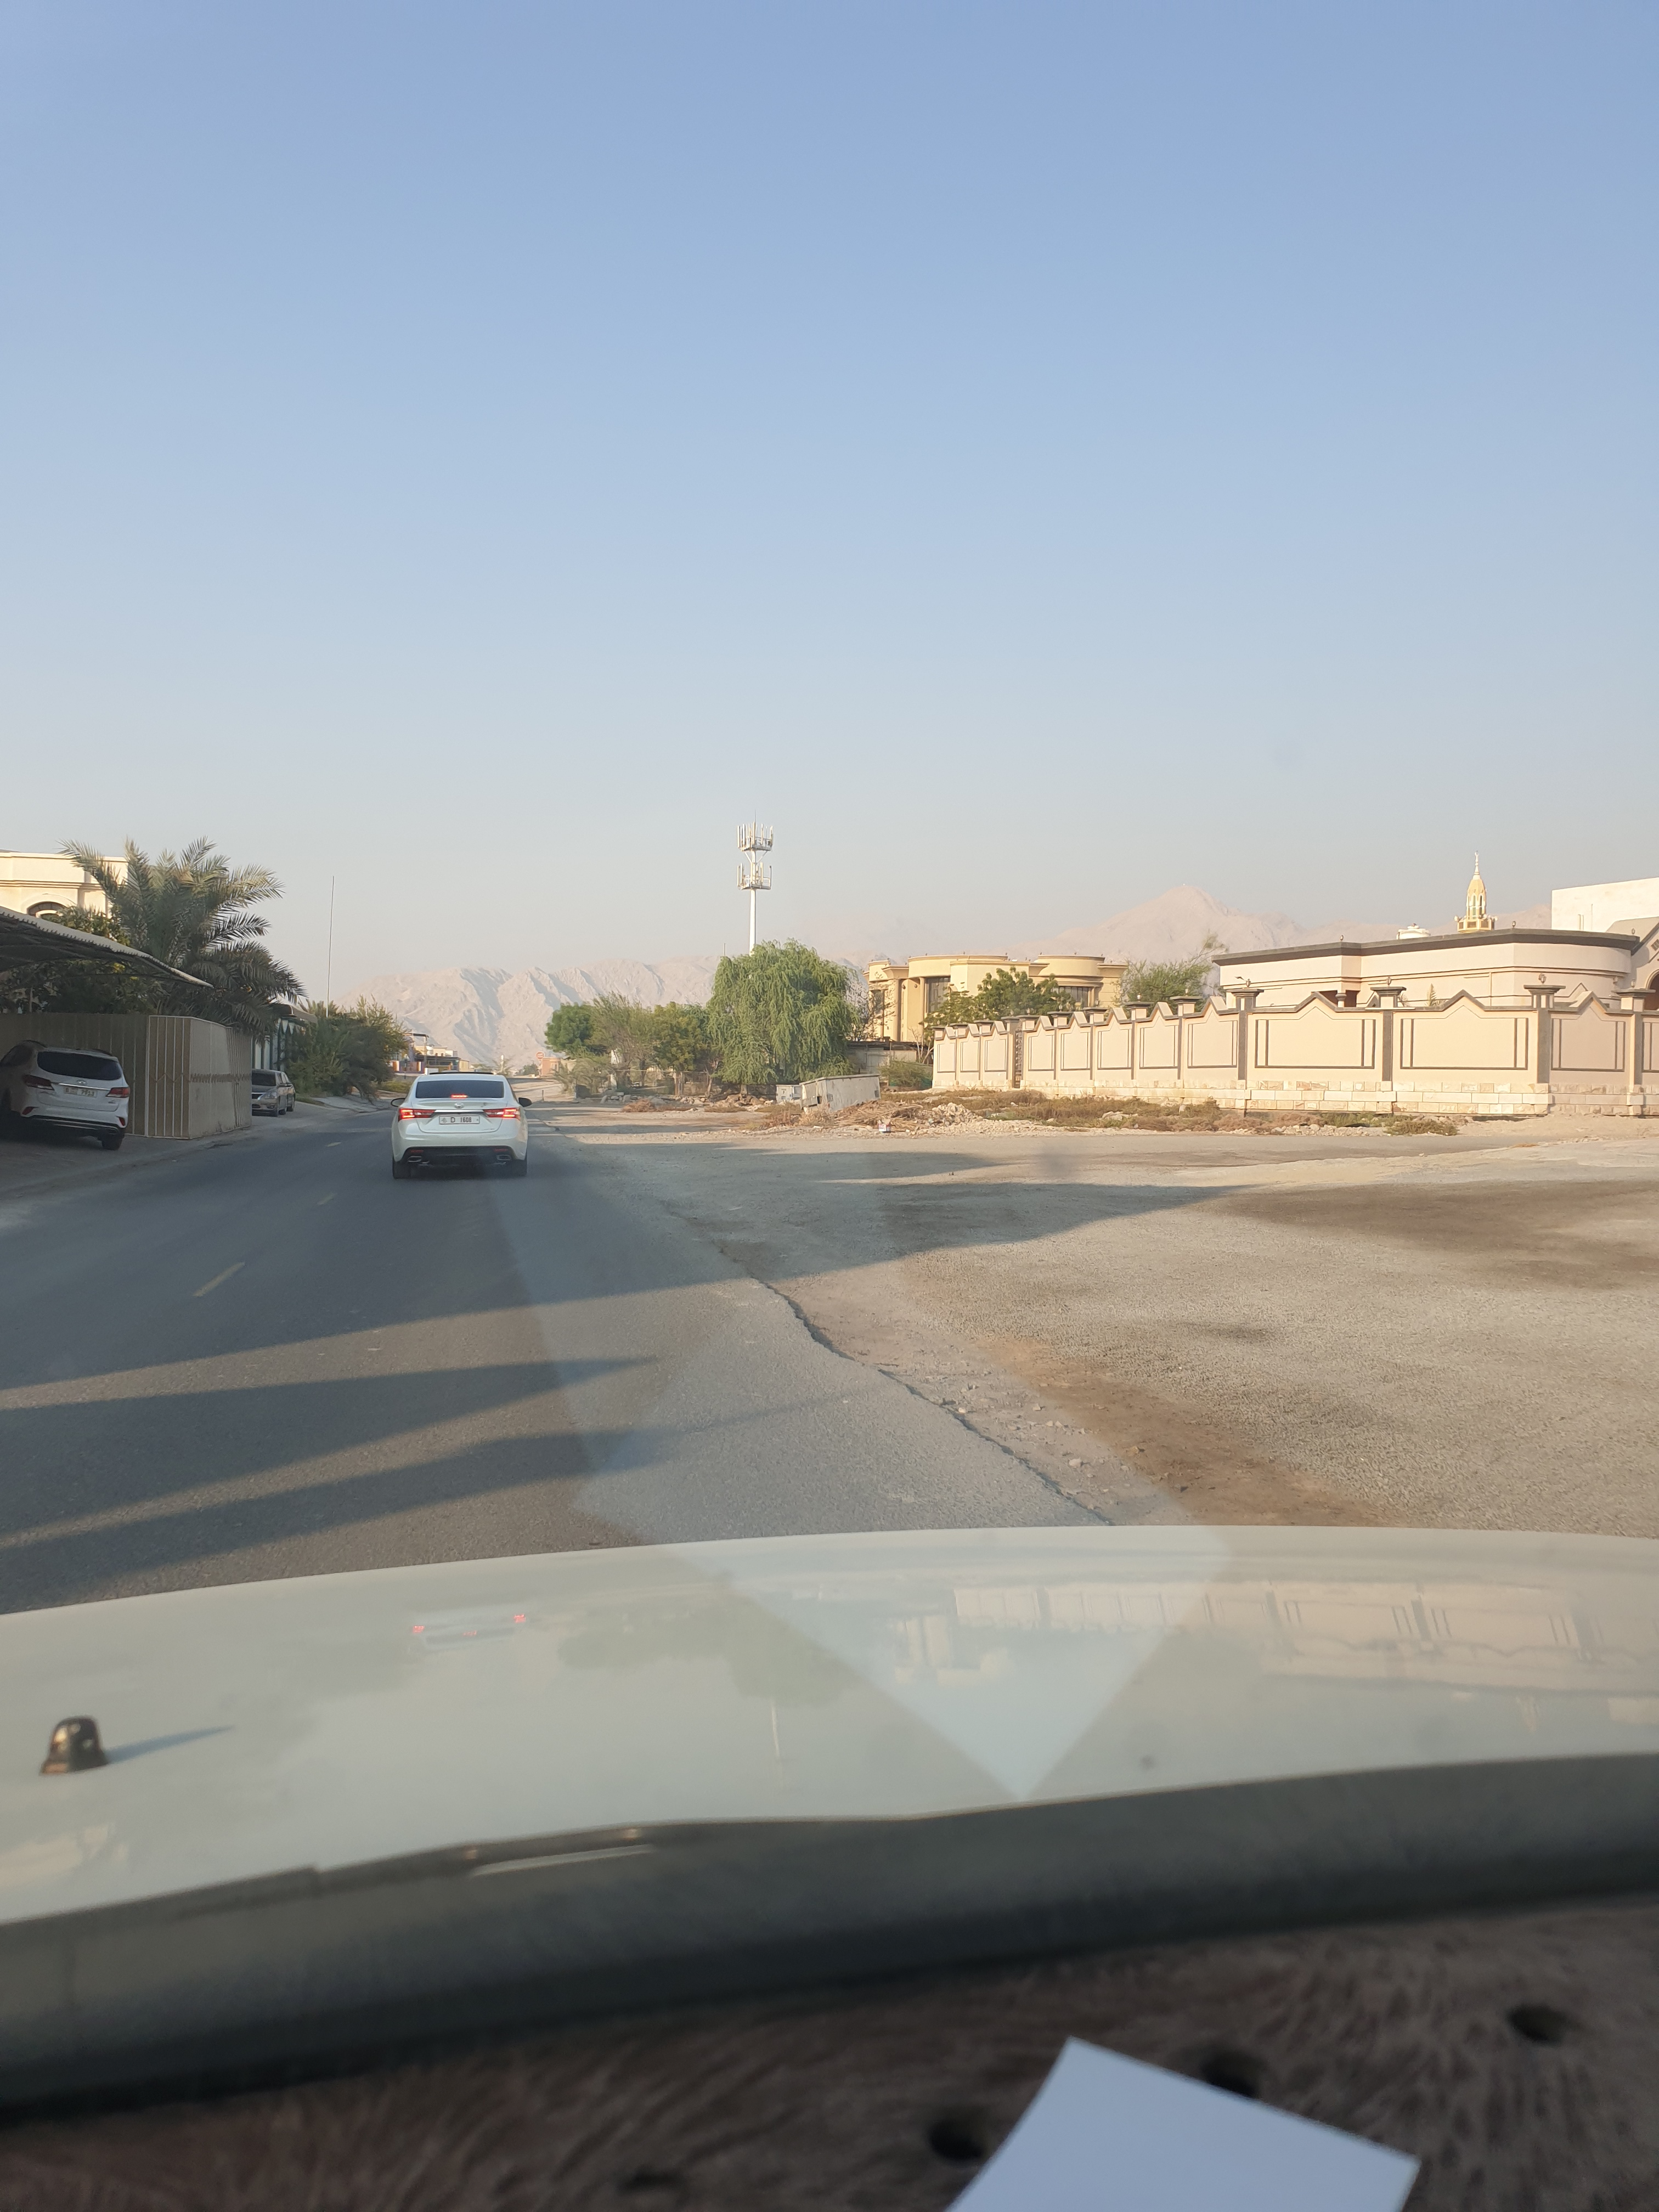fallen_trees: (744, 1106, 870, 1137), (904, 1115, 936, 1139), (877, 1118, 896, 1134)
